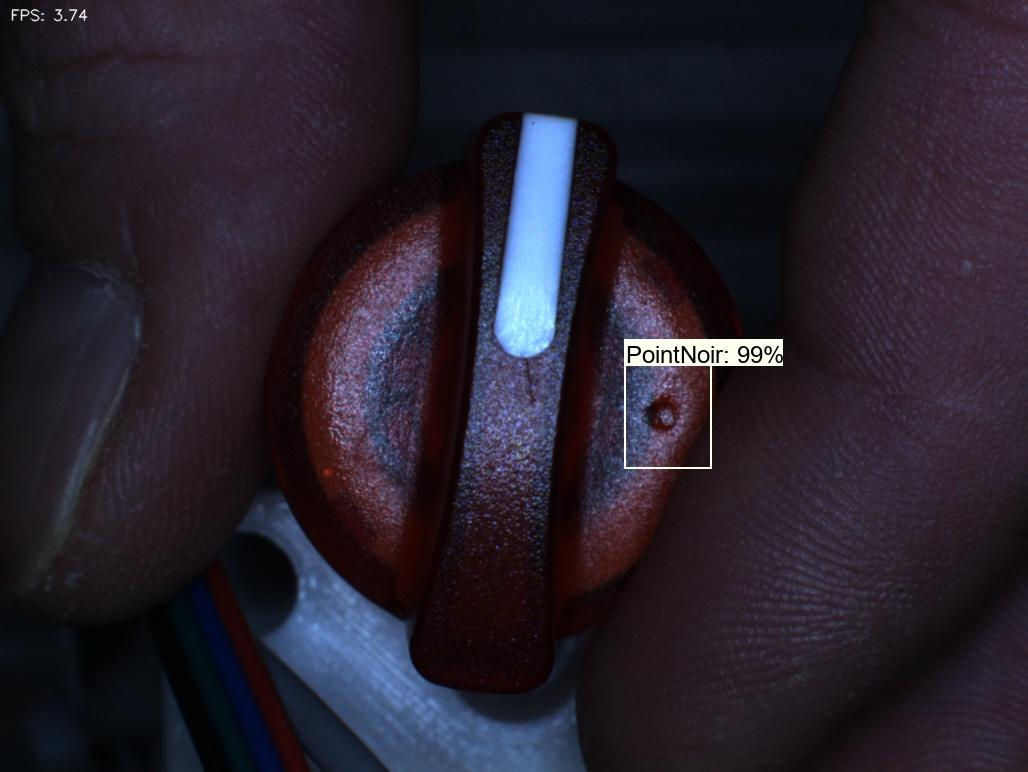Choc: (628, 369, 703, 457)
